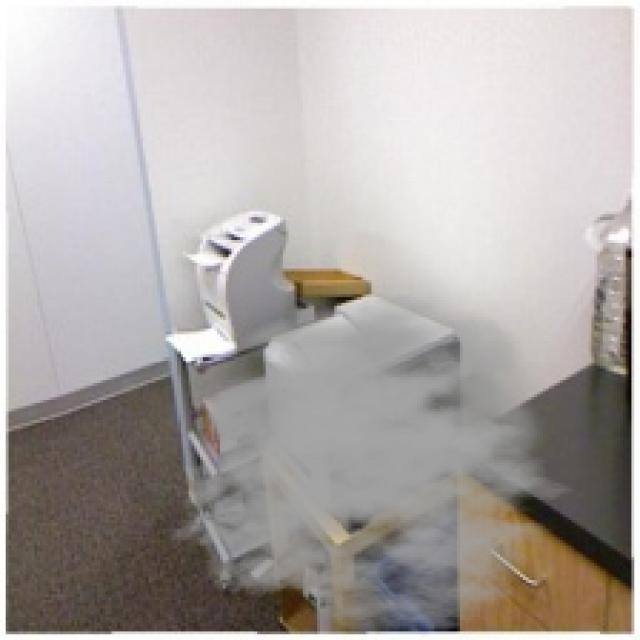smoke: (169, 294, 594, 637)
